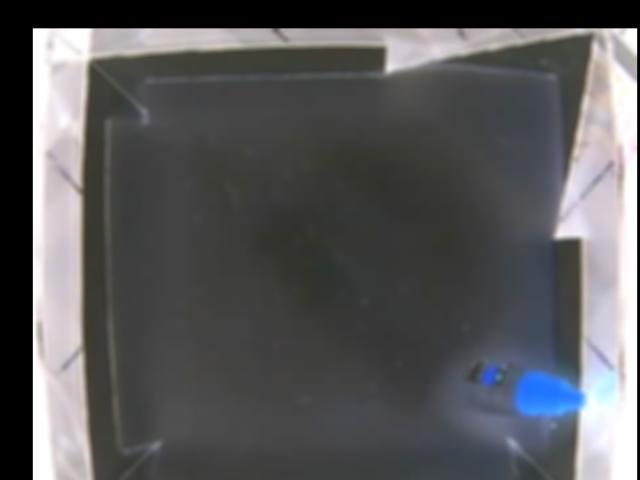Bottle: (463, 356, 587, 421)
